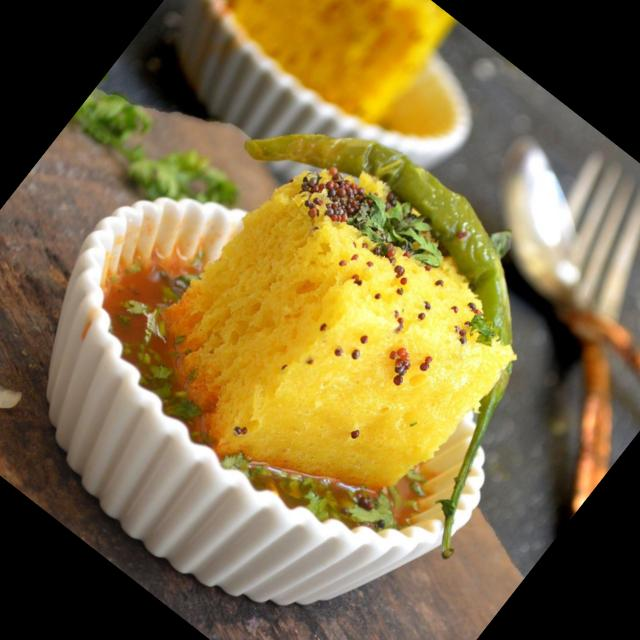dhokla: (150, 138, 560, 550), (222, 0, 459, 130)
